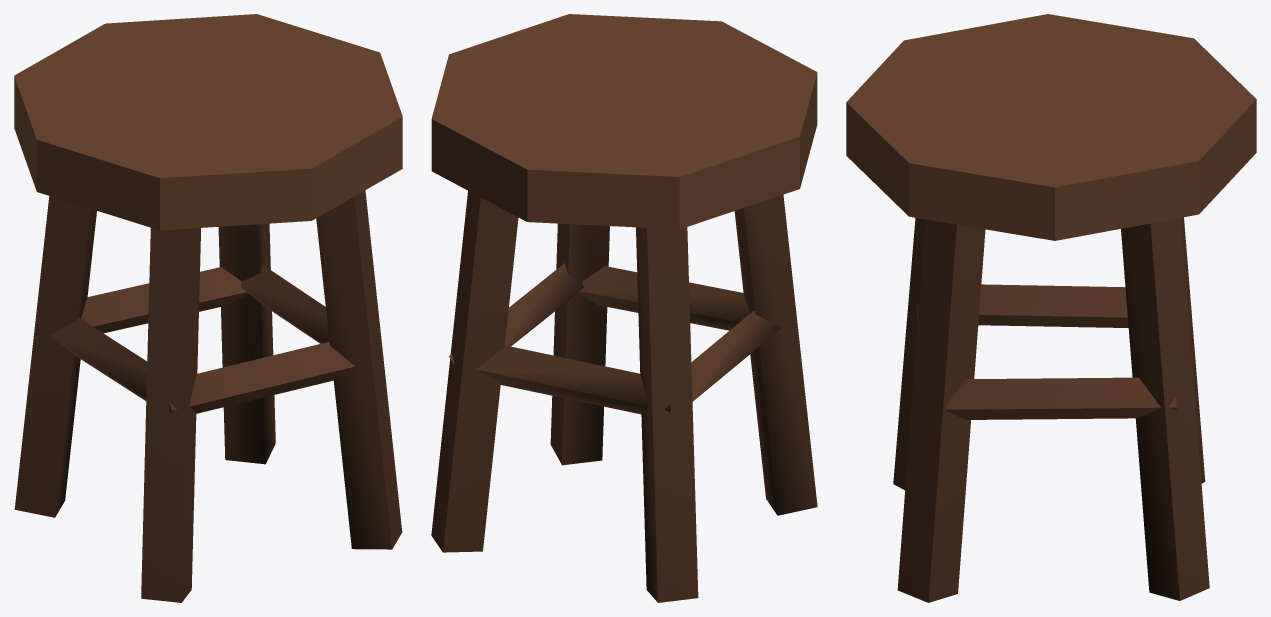
Rendered from SM_stool.fbx.
3 views of the same model, side by side, from view 1: azimuth 30°, elevation 25°; view 2: azimuth 150°, elevation 25°; view 3: azimuth 270°, elevation 25° (orthographic). The views are drawn at different scales.
Parts seen in each view (by area): view 1: SM_stool; view 2: SM_stool; view 3: SM_stool.
Part boxes in pixels (box(x1,y1,x2,y2)): SM_stool: box(14, 14, 402, 602); SM_stool: box(431, 14, 817, 602); SM_stool: box(846, 14, 1256, 602).
Size of the model in its own units: 33.69 by 39.81 by 33.69.
